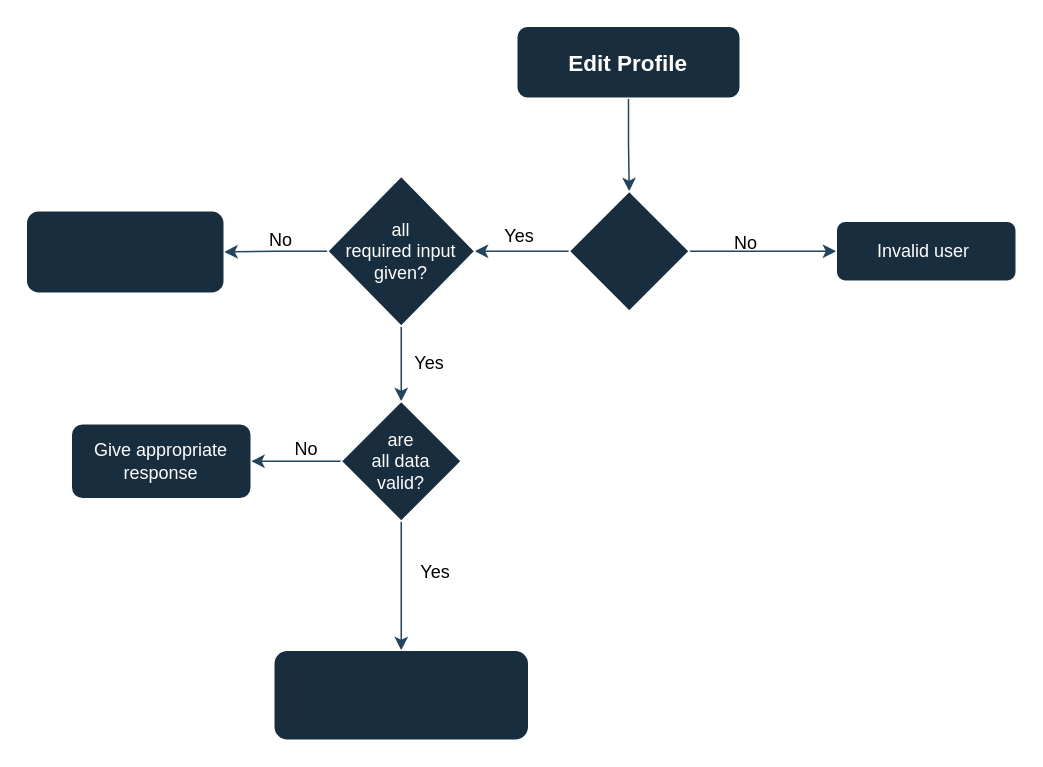
This 1043x767 diagram has some shape labels left out. The centre of each missing label's shape, as x and y in pixels:
"give appropriate response asking input" goes at (x=124, y=251).
"is user id valid?" goes at (x=628, y=250).
"Profile Updated" goes at (x=400, y=694).
